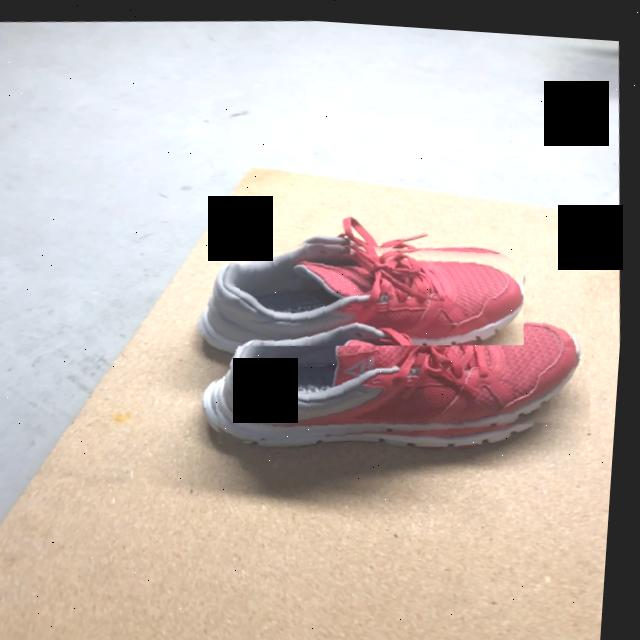shoe: (219, 307, 594, 439), (201, 238, 527, 342)
